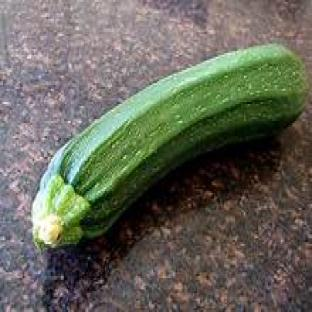Zucchini: (33, 44, 307, 247)
